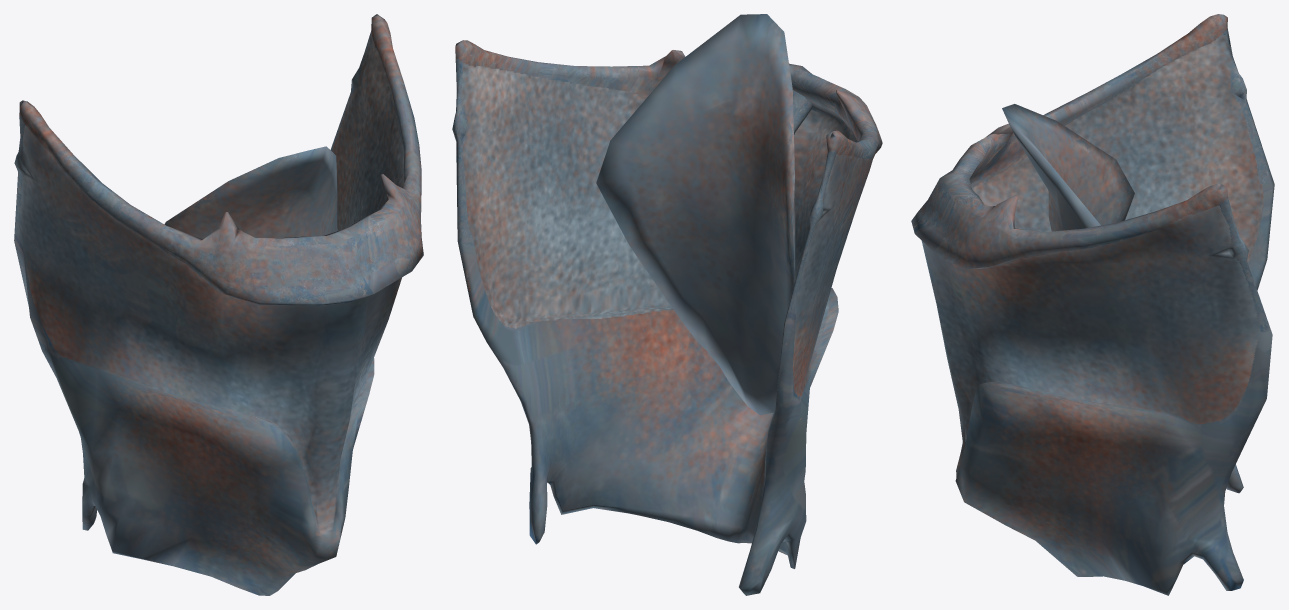
File: Larynx.FBX
3 renders of one model, left to right at view 1: azimuth 30°, elevation 25°; view 2: azimuth 150°, elevation 25°; view 3: azimuth 270°, elevation 25°, orthographic. The views are drawn at different scales.
Parts seen in each view (by area): view 1: Larynx; view 2: Larynx; view 3: Larynx.
Boxes of the visible parts, x1=… form: Larynx: x1=14, y1=14, x2=423, y2=595; Larynx: x1=452, y1=14, x2=882, y2=595; Larynx: x1=911, y1=14, x2=1274, y2=595.
Bounding box in the file's own units: 48.94 × 42.87 × 62.15.
